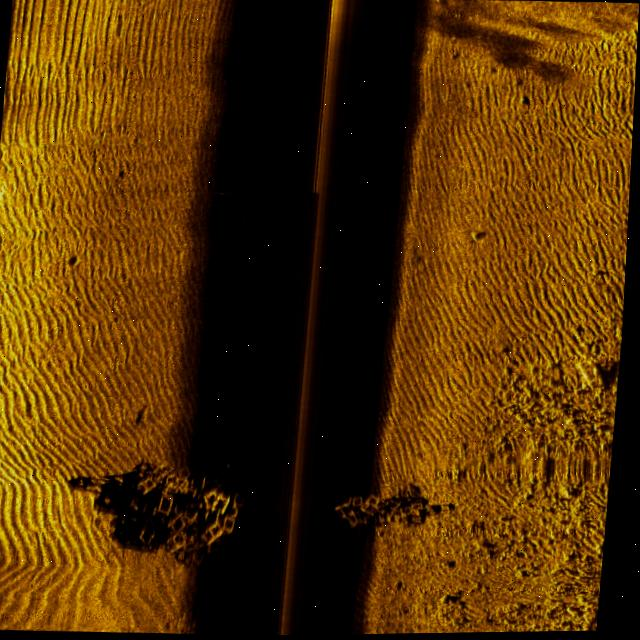artificial reef: (94, 451, 257, 568), (330, 476, 453, 556)
